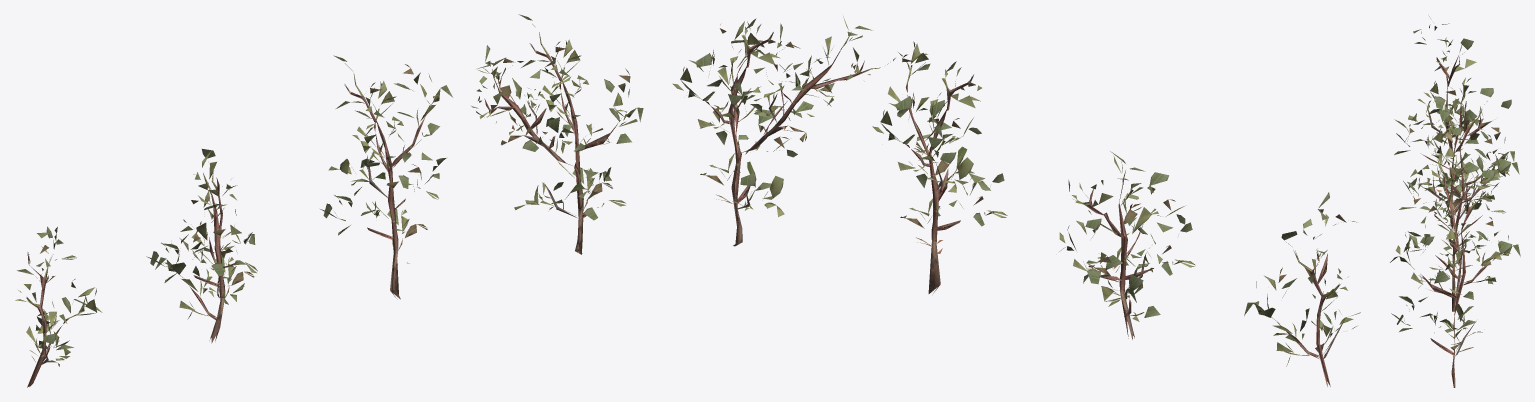
Rendered from shrub_04_mid.glb.
3 renders of one model, left to right at view 1: azimuth 30°, elevation 25°; view 2: azimuth 150°, elevation 25°; view 3: azimuth 270°, elevation 25°, orthographic. The views are drawn at different scales.
Visible parts, largest first — view 1: shrub_04_mid; view 2: shrub_04_mid; view 3: shrub_04_mid.
Part boxes in pixels (x1,y1,x2,y2): shrub_04_mid: [15, 14, 643, 387]; shrub_04_mid: [672, 16, 1360, 386]; shrub_04_mid: [1390, 16, 1520, 387].
Size of the model in its own units: 0.5617 by 0.2136 by 0.123.
1 material, 1 textured.
